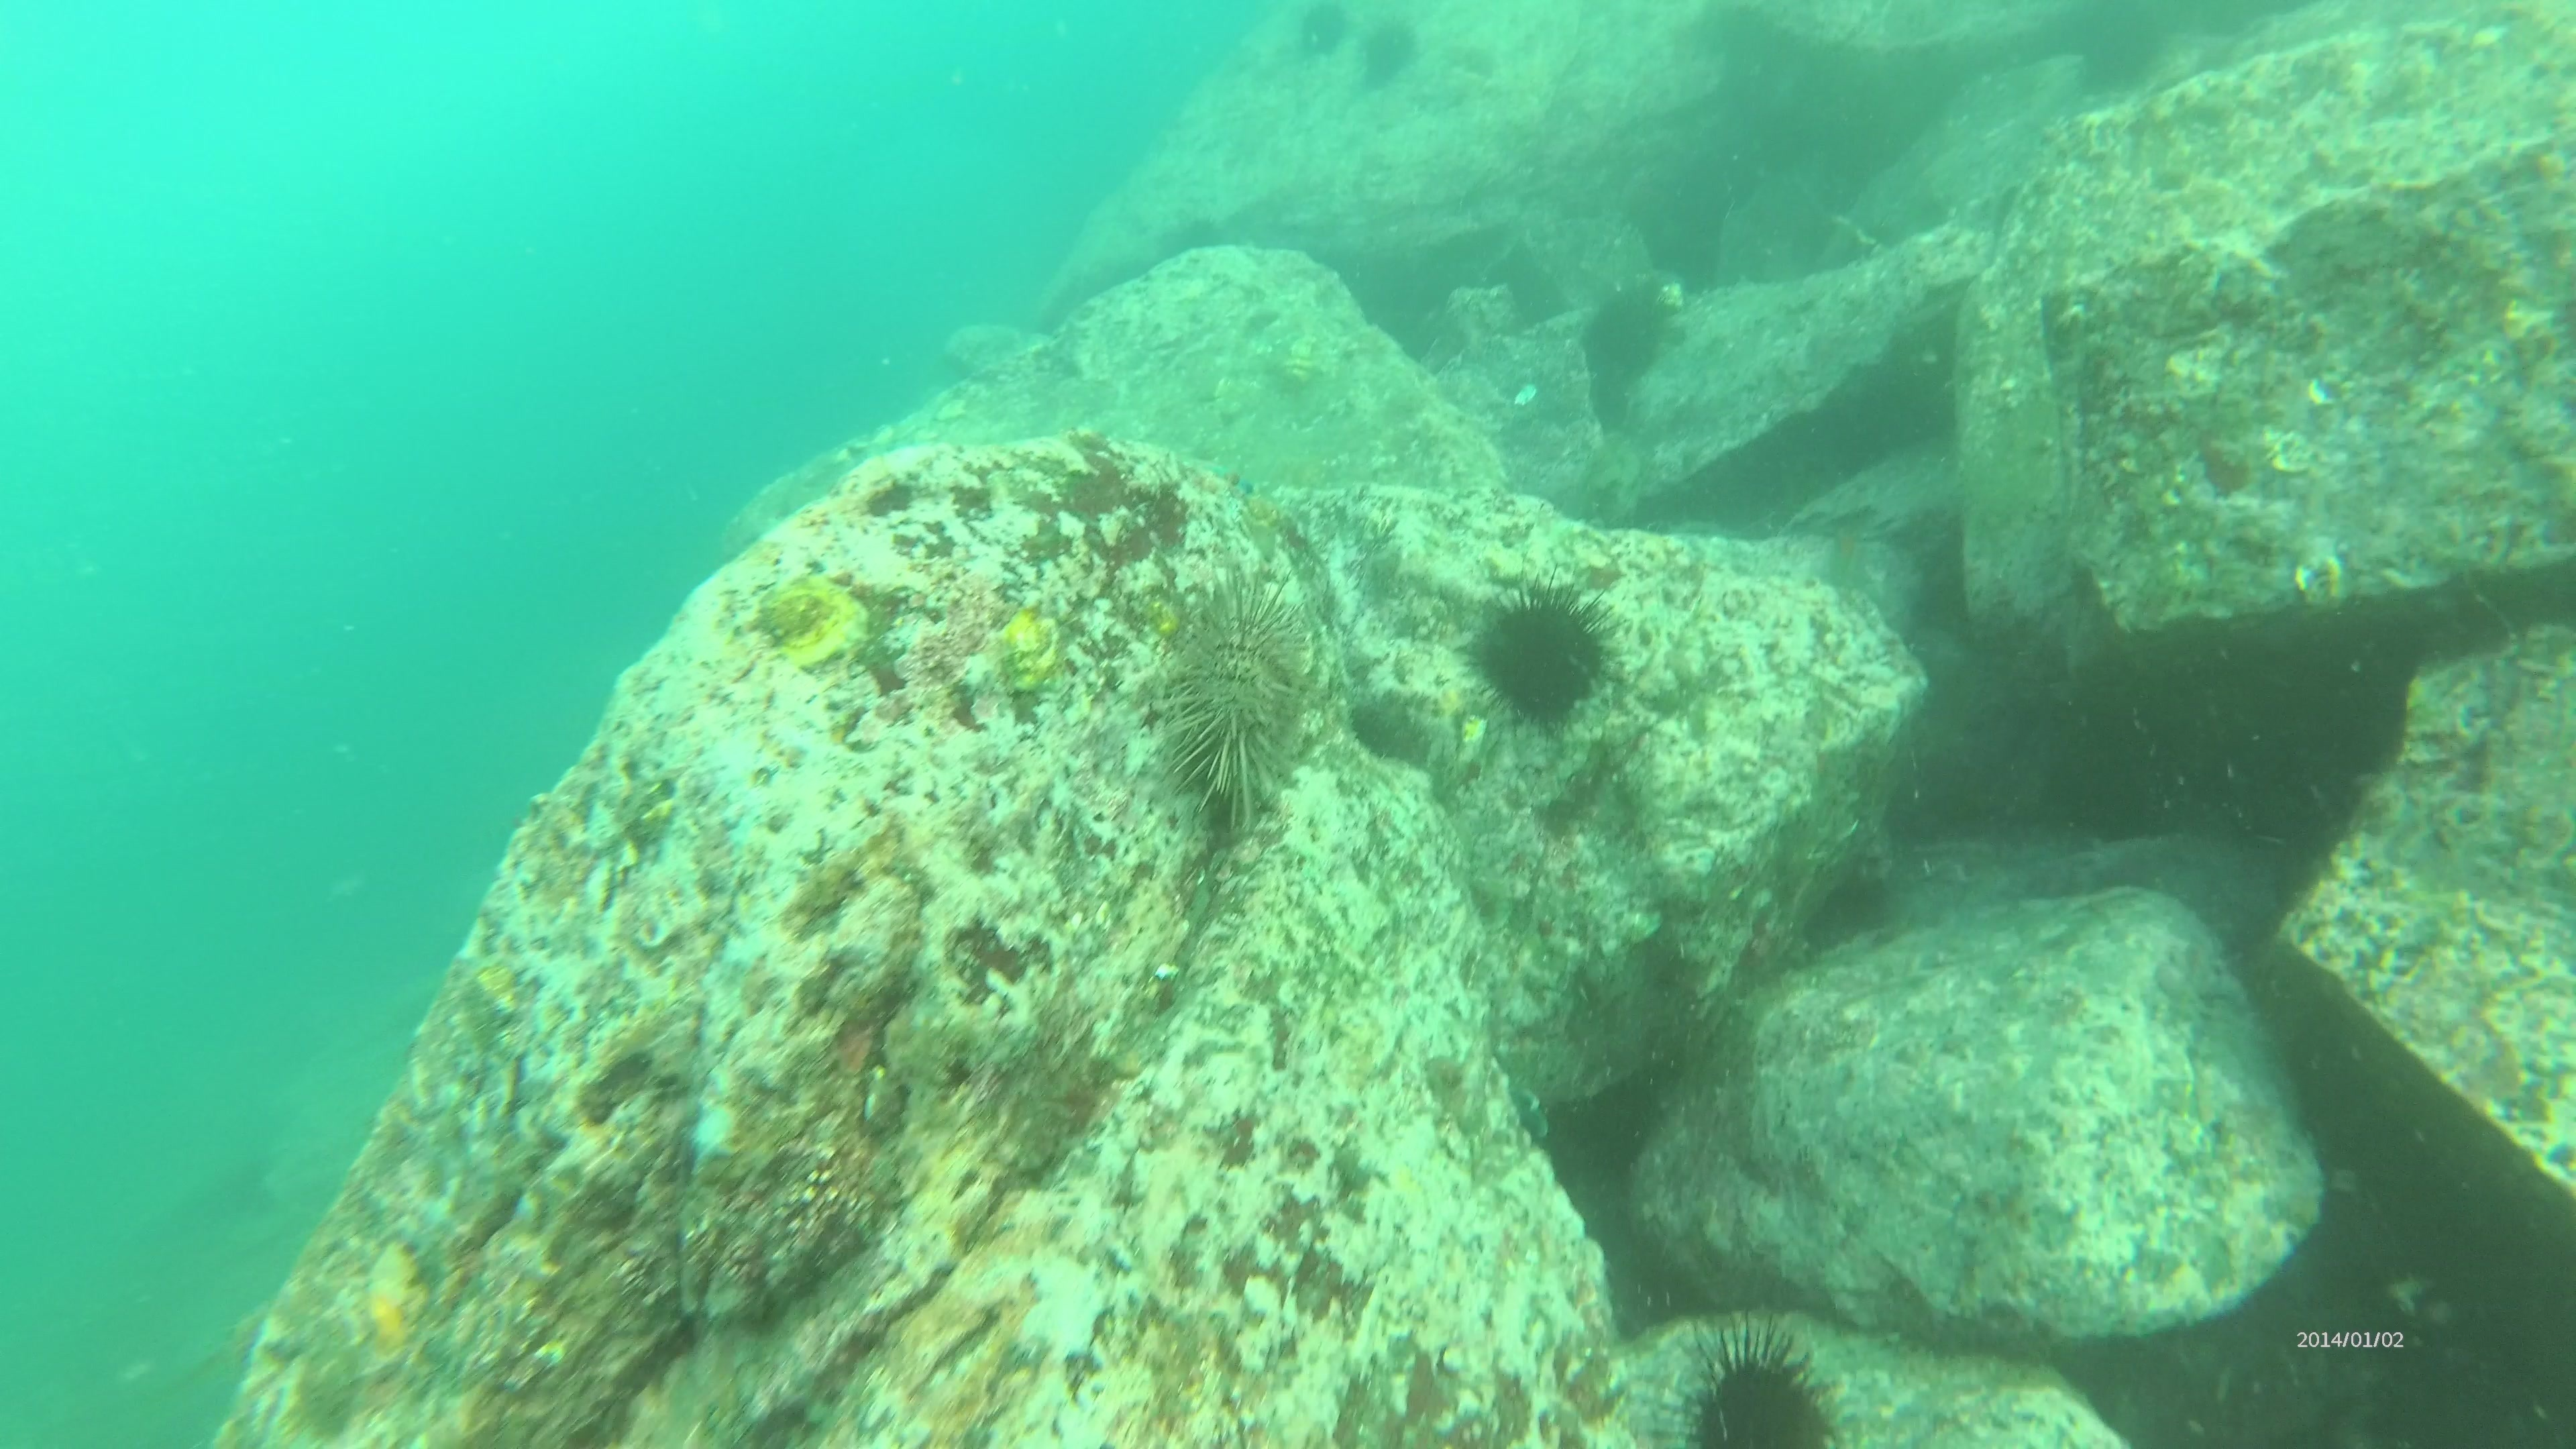echinus: (1145, 571, 1327, 809), (1460, 575, 1622, 736), (1660, 1318, 1849, 1445), (1575, 276, 1683, 391), (2056, 4, 2178, 103), (1350, 12, 1426, 94), (1286, 4, 1355, 67)
